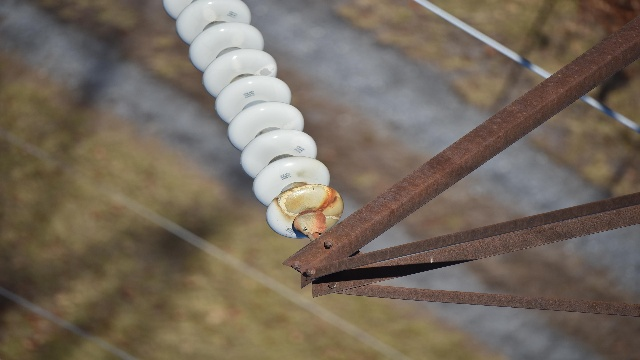insulator_unspecified: (163, 0, 344, 240)
pollution_flashover_local: (276, 184, 334, 221), (281, 112, 304, 133), (257, 63, 278, 77), (202, 6, 217, 22)
